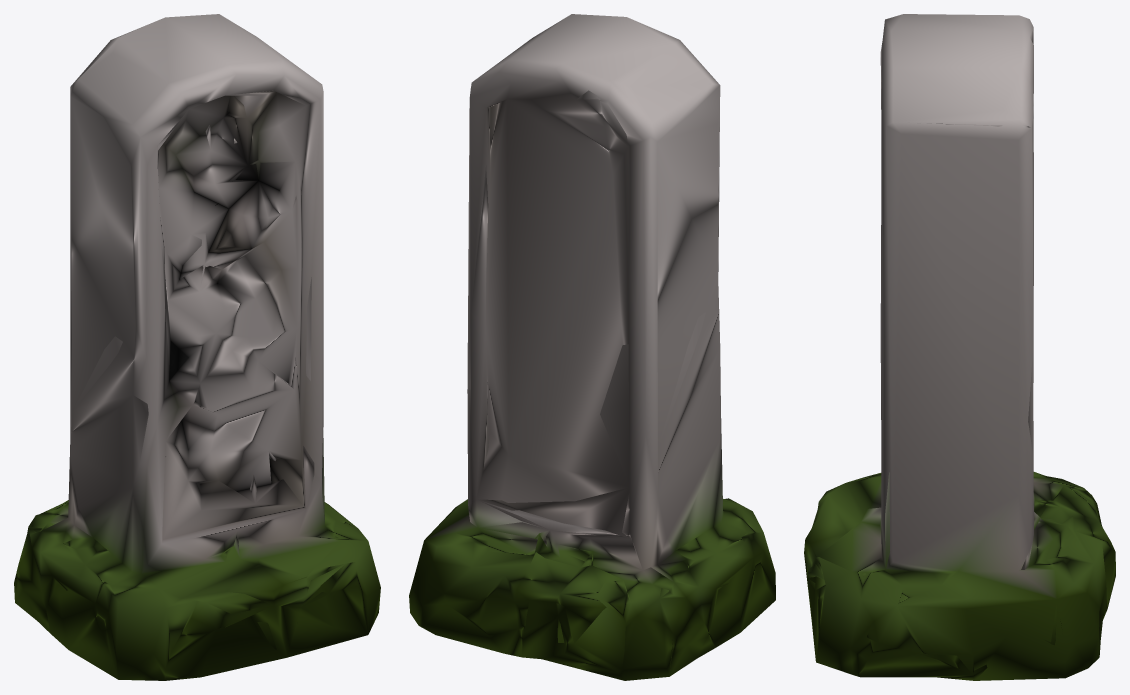
File: gen3d-stele-lod1.glb
3 views of the same model, side by side, from view 1: azimuth 30°, elevation 25°; view 2: azimuth 150°, elevation 25°; view 3: azimuth 270°, elevation 25° (orthographic). The views are drawn at different scales.
Parts seen in each view (by area): view 1: part_0; view 2: part_0; view 3: part_0.
Boxes of the visible parts, bbox=[...] form: part_0: bbox=[14, 14, 380, 680]; part_0: bbox=[409, 14, 775, 680]; part_0: bbox=[804, 14, 1115, 680].
Bounding box in the file's own units: 0.5246 × 0.9996 × 0.4857.
